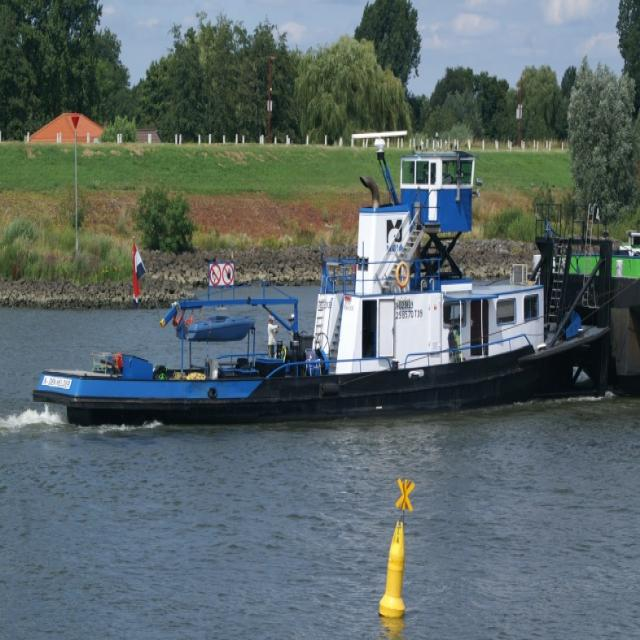tugboat: (26, 122, 619, 446)
